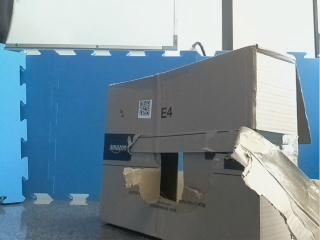caja_rota: (102, 47, 311, 240)
